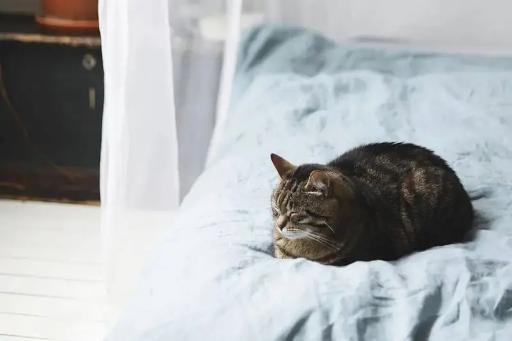cat_sleeping: (271, 142, 474, 266)
